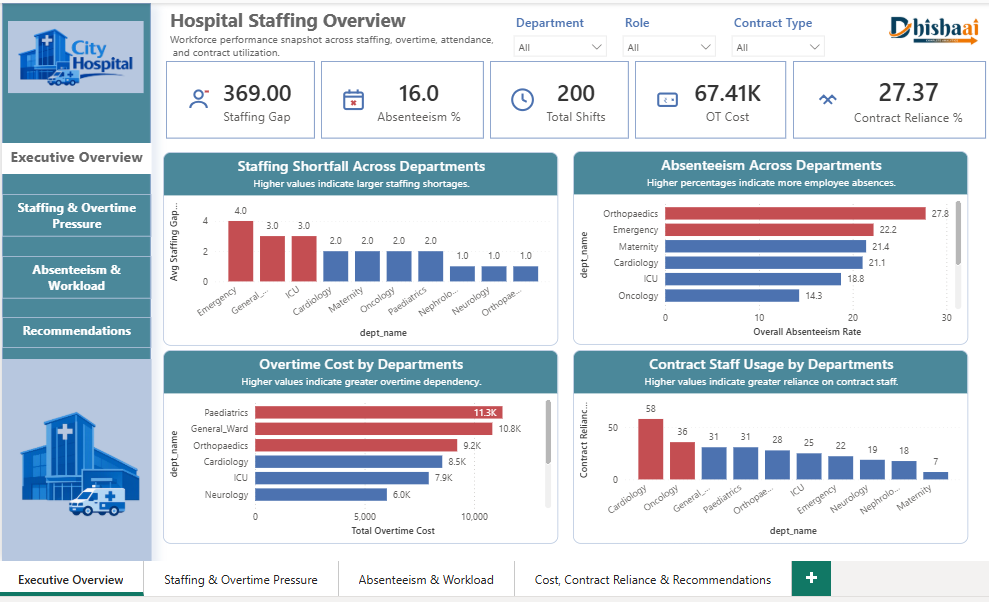

This screenshot's page, from the dashboard's own definition file:
{"tool":"powerbi","page":{"name":"Executive Overview","canvas":[1280,720],"ordinal":0},"visuals":[{"type":"cardVisual","fields":{"Data":["SycTable.Total Staffing Deficit"]},"box":[211.2,74.7,191.8,100],"z":0},{"type":"cardVisual","fields":{"Data":["SycTable.Overall Absenteeism Rate"]},"box":[411.6,74.7,209.8,100],"z":1000},{"type":"cardVisual","fields":{"Data":["SycTable.Total Shifts Analyzed"]},"box":[630,74.7,178.7,100],"z":2000},{"type":"cardVisual","fields":{"Data":["SycTable.Total Overtime Cost"]},"box":[817.3,74.7,195.1,100],"z":3000},{"type":"textbox","box":[211.5,0,1068.9,78],"z":4000},{"type":"clusteredColumnChart","title":"Staffing Shortfall Across Departments","fields":{"Category":["Agg_Dept_Summary.dept_name"],"Y":["Agg_Dept_Summary.Avg Staffing Gap Select"]},"box":[208,192,510,250],"z":5000},{"type":"barChart","title":"Overtime Cost by Departments","fields":{"Category":["Agg_Dept_Summary.dept_name"],"Y":["SycTable.Total Overtime Cost"]},"box":[208,448,510,250],"z":6000},{"type":"barChart","title":"Absenteeism Across Departments","fields":{"Category":["Agg_Dept_Summary.dept_name"],"Y":["SycTable.Overall Absenteeism Rate"]},"box":[737.2,191,510,250],"z":7000},{"type":"clusteredColumnChart","title":"Contract Staff Usage by Departments","fields":{"Category":["Agg_Dept_Summary.dept_name"],"Y":["Agg_Dept_Summary.Contract Reliance Pct"]},"box":[737.2,447.4,510,250],"z":8000},{"type":"cardVisual","fields":{"Data":["Agg_Dept_Summary.Contract Reliance Pct"]},"box":[1021,74.7,249.2,100],"z":9000},{"type":"textbox","box":[0,0,191.8,719.7],"z":10000},{"type":"image","box":[8.2,23,175.4,93.4],"z":11000},{"type":"textbox","box":[0,180,193,40],"z":12000},{"type":"textbox","box":[0,246.6,193,55],"z":13000},{"type":"textbox","box":[0,326,193,55],"z":14000},{"type":"textbox","box":[0,405.4,193,40],"z":15000},{"type":"image","box":[0,459.2,192.8,260.8],"z":15001},{"type":"image","box":[1138.1,8.5,131.8,53.9],"z":15002},{"type":"slicer","fields":{"Values":["Agg_Dept_Summary.dept_name"]},"box":[650,8.5,140,60],"z":15003},{"type":"actionButton","box":[0,180,193,40],"z":15007},{"type":"actionButton","box":[0,246.6,193,55],"z":15008},{"type":"actionButton","box":[0,326,193,55],"z":15009},{"type":"actionButton","box":[0,405.4,193,40],"z":15010},{"type":"slicer","fields":{"Values":["Dim_Role_Benchmark.role"]},"box":[790.9,8.5,140,60],"z":15011},{"type":"slicer","fields":{"Values":["Dim_Staff.contract_type"]},"box":[931.2,8.5,140,60],"z":15012}]}

Visuals, with their boxes on the page's 1280x720 design canvas (x1, y1, x2, y2). These are canvas units, not pixel positions in the 989x602 screenshot, which may show the page scaled, cropped or inside an application window:
cardVisual - SycTable.Total Staffing Deficit: locate(211, 75, 403, 175)
cardVisual - SycTable.Overall Absenteeism Rate: locate(412, 75, 621, 175)
cardVisual - SycTable.Total Shifts Analyzed: locate(630, 75, 809, 175)
cardVisual - SycTable.Total Overtime Cost: locate(817, 75, 1012, 175)
textbox: locate(212, 0, 1280, 78)
"Staffing Shortfall Across Departments" clusteredColumnChart: locate(208, 192, 718, 442)
"Overtime Cost by Departments" barChart: locate(208, 448, 718, 698)
"Absenteeism Across Departments" barChart: locate(737, 191, 1247, 441)
"Contract Staff Usage by Departments" clusteredColumnChart: locate(737, 447, 1247, 697)
cardVisual - Agg_Dept_Summary.Contract Reliance Pct: locate(1021, 75, 1270, 175)
textbox: locate(0, 0, 192, 720)
image: locate(8, 23, 184, 116)
textbox: locate(0, 180, 193, 220)
textbox: locate(0, 247, 193, 302)
textbox: locate(0, 326, 193, 381)
textbox: locate(0, 405, 193, 445)
image: locate(0, 459, 193, 720)
image: locate(1138, 8, 1270, 62)
slicer - Agg_Dept_Summary.dept_name: locate(650, 8, 790, 68)
actionButton: locate(0, 180, 193, 220)
actionButton: locate(0, 247, 193, 302)
actionButton: locate(0, 326, 193, 381)
actionButton: locate(0, 405, 193, 445)
slicer - Dim_Role_Benchmark.role: locate(791, 8, 931, 68)
slicer - Dim_Staff.contract_type: locate(931, 8, 1071, 68)
